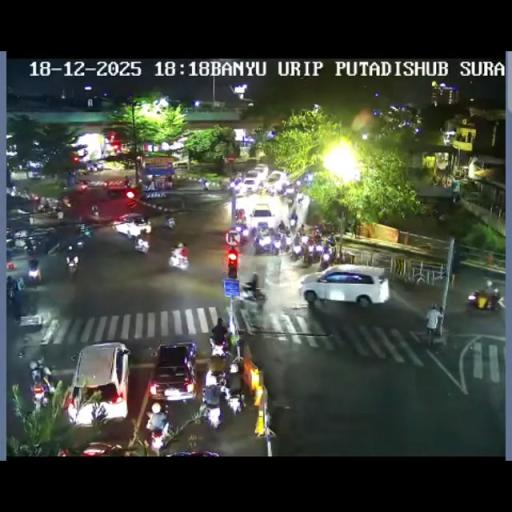Car: (67, 342, 130, 425), (298, 264, 390, 306), (149, 342, 198, 403), (112, 214, 151, 238), (249, 202, 275, 230), (243, 164, 269, 189), (77, 441, 123, 455), (106, 178, 135, 198), (266, 170, 288, 192)
Motorcycle: (30, 365, 54, 408), (468, 280, 501, 310), (6, 276, 26, 319), (241, 282, 268, 310), (424, 305, 442, 345), (147, 420, 169, 452), (203, 364, 227, 393), (225, 385, 244, 417), (204, 398, 222, 430), (208, 335, 230, 361), (253, 230, 274, 254), (36, 197, 63, 215), (169, 249, 189, 270), (232, 221, 250, 244), (25, 234, 45, 252), (28, 260, 42, 285), (320, 244, 334, 265), (66, 254, 78, 278), (290, 240, 305, 259), (134, 236, 148, 254), (229, 175, 243, 192), (302, 246, 313, 264), (47, 242, 62, 255), (76, 232, 86, 250), (163, 215, 175, 230), (283, 233, 294, 249), (277, 222, 289, 236), (311, 228, 322, 242), (228, 360, 239, 374), (326, 233, 336, 248), (290, 210, 298, 228), (90, 206, 100, 220), (76, 182, 87, 194), (236, 208, 245, 222), (250, 224, 258, 239), (62, 196, 72, 208), (164, 178, 173, 190), (298, 223, 306, 236), (86, 162, 95, 173), (260, 225, 269, 236), (286, 194, 294, 206), (95, 161, 105, 170), (301, 234, 309, 244), (123, 176, 130, 187), (260, 186, 268, 195), (57, 210, 63, 222), (297, 194, 304, 204), (202, 179, 208, 190), (157, 204, 163, 211)
